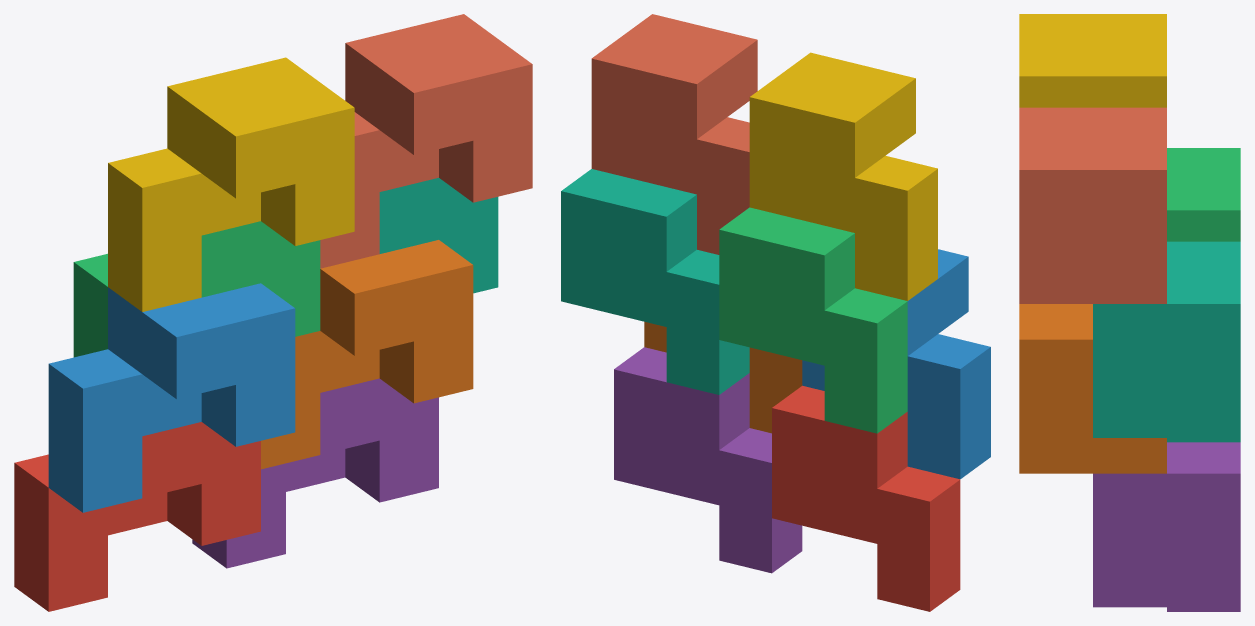
Rendered from tiling.obj.
3 renders of one model, left to right at view 1: azimuth 30°, elevation 25°; view 2: azimuth 150°, elevation 25°; view 3: azimuth 270°, elevation 25°, orthographic. The views are drawn at different scales.
Parts seen in each view (by area): view 1: copy_1_domain_4, copy_1_domain_2, copy_1_domain_8, copy_1_domain_6, copy_1_domain_1, copy_1_domain_5, copy_1_domain_3, copy_1_domain_7; view 2: copy_1_domain_4, copy_1_domain_3, copy_1_domain_8, copy_1_domain_1, copy_1_domain_7, copy_1_domain_5, copy_1_domain_2, copy_1_domain_6; view 3: copy_1_domain_8, copy_1_domain_7, copy_1_domain_5, copy_1_domain_6, copy_1_domain_4, copy_1_domain_3.
Boxes of the visible parts, left/top/right/bottom form: copy_1_domain_4: left=108, top=57, right=354, bottom=311; copy_1_domain_2: left=48, top=283, right=295, bottom=512; copy_1_domain_8: left=320, top=14, right=532, bottom=268; copy_1_domain_6: left=261, top=240, right=473, bottom=469; copy_1_domain_1: left=14, top=422, right=260, bottom=611; copy_1_domain_5: left=192, top=378, right=438, bottom=568; copy_1_domain_3: left=73, top=221, right=320, bottom=357; copy_1_domain_7: left=379, top=177, right=498, bottom=293; copy_1_domain_4: left=749, top=52, right=937, bottom=300; copy_1_domain_3: left=719, top=207, right=907, bottom=433; copy_1_domain_8: left=591, top=14, right=757, bottom=254; copy_1_domain_1: left=772, top=385, right=960, bottom=611; copy_1_domain_7: left=561, top=169, right=749, bottom=394; copy_1_domain_5: left=614, top=347, right=802, bottom=573; copy_1_domain_2: left=802, top=249, right=990, bottom=479; copy_1_domain_6: left=644, top=321, right=802, bottom=433; copy_1_domain_8: left=1019, top=107, right=1166, bottom=303; copy_1_domain_7: left=1093, top=241, right=1240, bottom=442; copy_1_domain_5: left=1093, top=442, right=1240, bottom=611; copy_1_domain_6: left=1019, top=304, right=1166, bottom=473; copy_1_domain_4: left=1019, top=14, right=1166, bottom=107; copy_1_domain_3: left=1167, top=148, right=1240, bottom=241.
Size of the model in its own units: 7 by 8 by 3.
